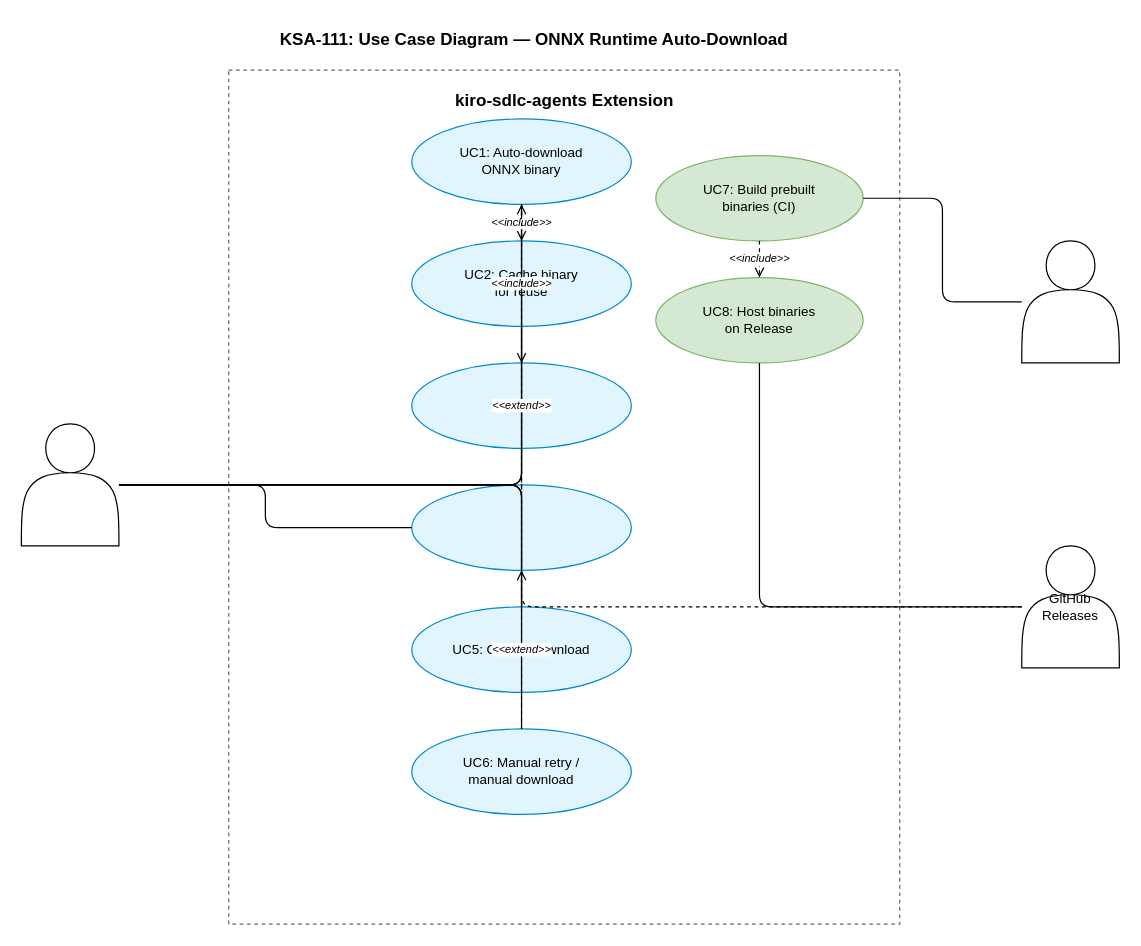
Some shapes in this 1141 by 946 pixel diagram are drawn without their labels. Here are the shapes that lost their labels. From the top down, the box of each, then its label:
(1021, 240, 1119, 363): GitHub Actions CI
(411, 362, 631, 448): UC3: Verify SHA-256 integrity
(20, 423, 119, 546): Developer (Extension User)
(411, 484, 631, 570): UC4: Graceful fallback (no crash)
